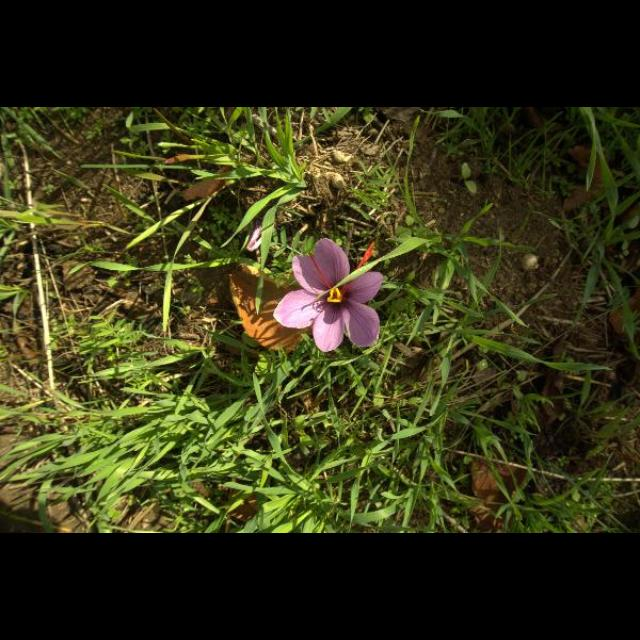flower: (274, 238, 384, 352)
